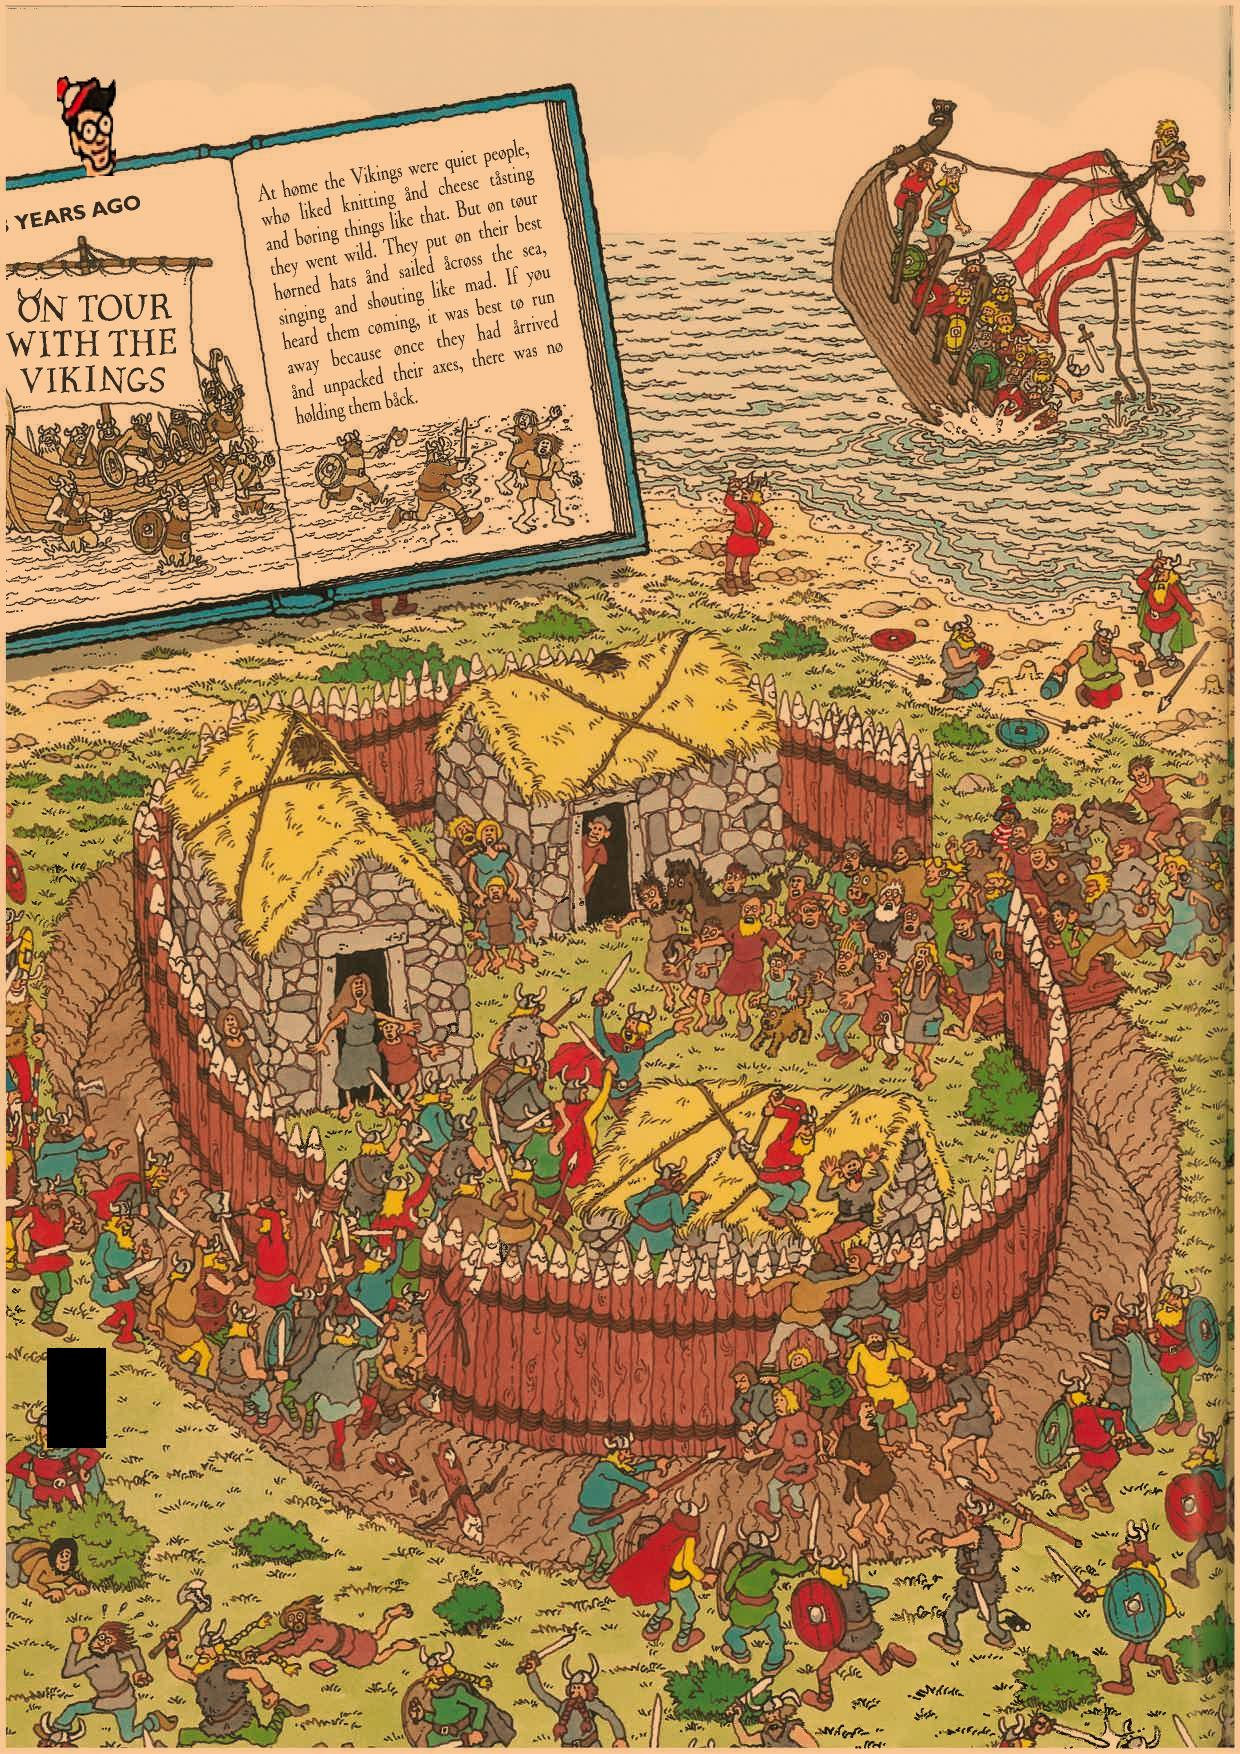waldos: (56, 76, 115, 176)
